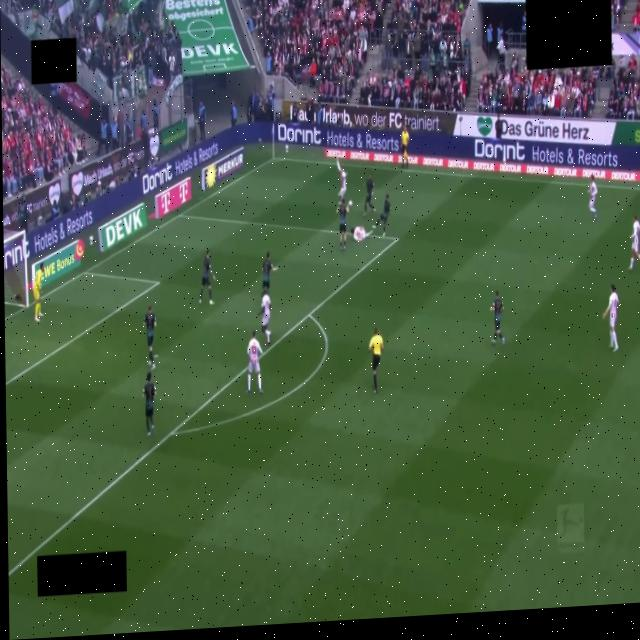ball: (348, 201, 352, 206)
player: (603, 284, 618, 352), (247, 331, 262, 393), (144, 304, 156, 369), (200, 250, 214, 305), (143, 372, 155, 436), (491, 291, 505, 345), (375, 194, 390, 236), (33, 263, 43, 322), (337, 198, 348, 250), (261, 290, 271, 344), (629, 216, 639, 270), (262, 252, 276, 290), (363, 174, 375, 216), (588, 176, 597, 220), (337, 161, 346, 199)
referee: (368, 328, 383, 393)
